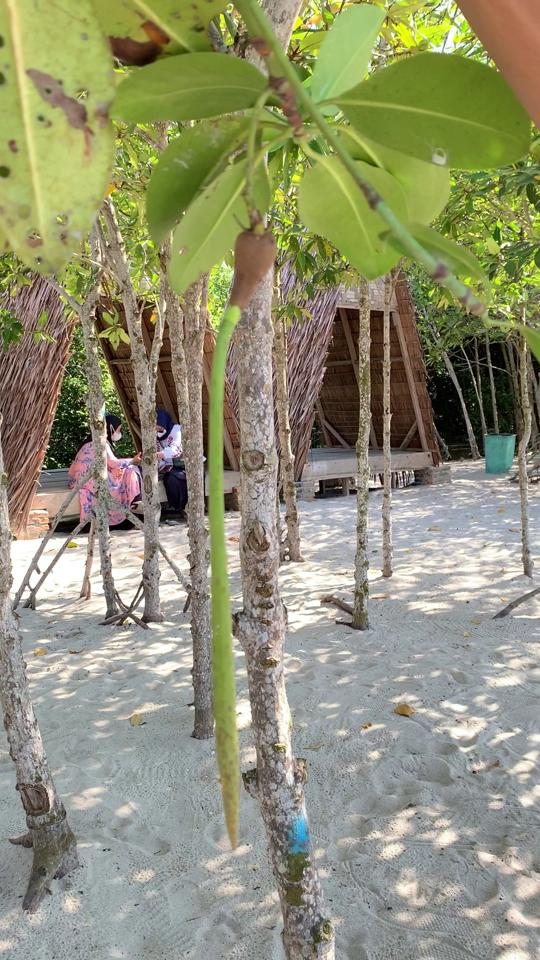setengah matang: (198, 206, 293, 859)
